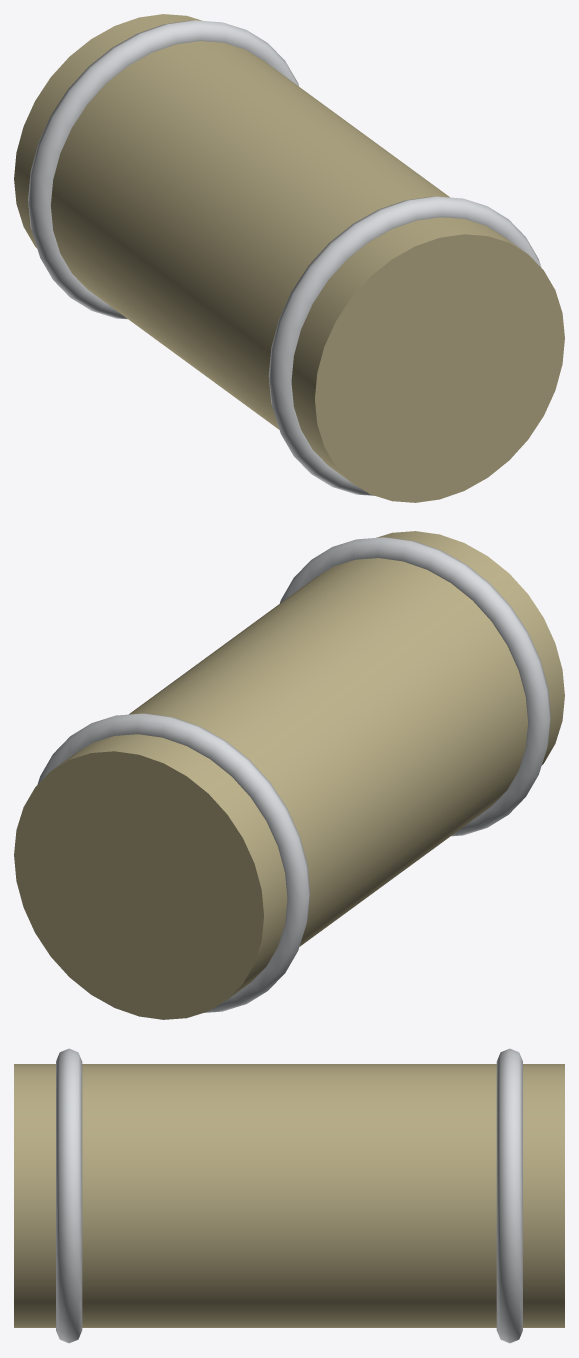
File: fuel.glb
The picture shows the model from 3 angles, top to bottom: view 1: azimuth 30°, elevation 25°; view 2: azimuth 150°, elevation 25°; view 3: azimuth 270°, elevation 25°; orthographic projection. The views are drawn at different scales.
Parts seen in each view (by area): view 1: fuel-tank; view 2: fuel-tank; view 3: fuel-tank.
Boxes of the visible parts, x1=… form: fuel-tank: x1=14, y1=14, x2=564, y2=502; fuel-tank: x1=14, y1=531, x2=564, y2=1019; fuel-tank: x1=14, y1=1048, x2=564, y2=1343.
Size of the model in its own units: 1.34 by 1.34 by 2.5.
